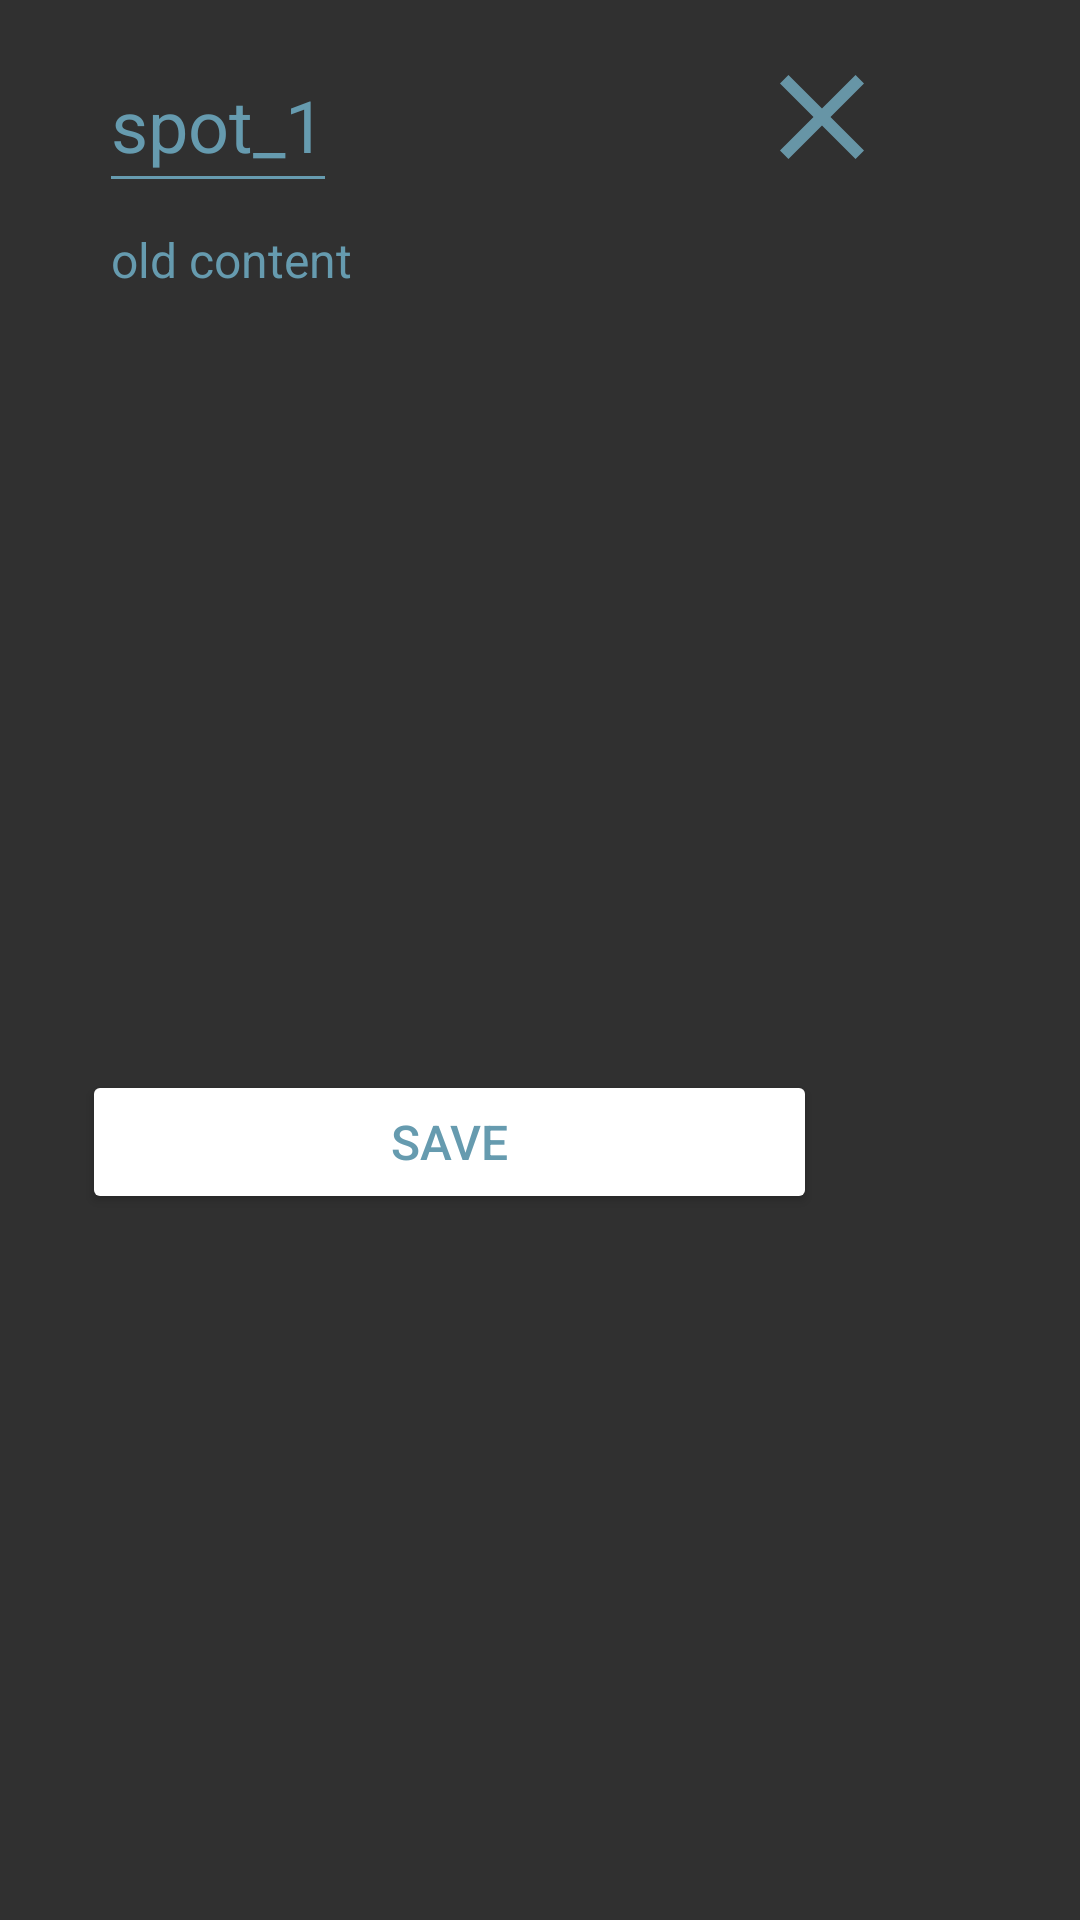

Where to tap for icons on this 1080×1920 app screen, as point (x, y):
clear: point (822, 117)
